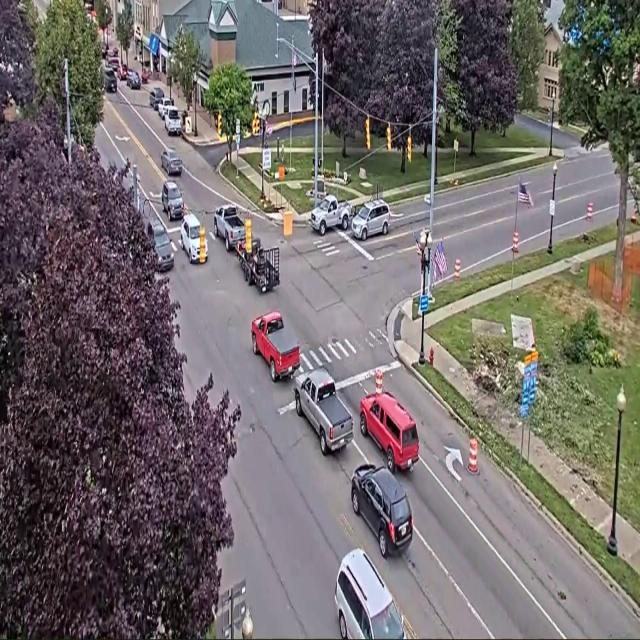car: (335, 549, 405, 639), (351, 464, 413, 557), (360, 392, 418, 472), (351, 200, 390, 240), (147, 218, 173, 271), (180, 214, 201, 263), (161, 181, 183, 220), (161, 149, 182, 175), (157, 96, 173, 119), (149, 88, 164, 110), (104, 68, 117, 92), (127, 70, 141, 89), (107, 57, 119, 72), (117, 64, 128, 80)
traffic signal: (252, 112, 259, 135), (217, 112, 223, 137), (366, 117, 370, 150), (386, 125, 391, 151), (407, 134, 411, 162)
truck: (294, 369, 353, 455), (252, 312, 299, 382), (236, 238, 279, 292), (310, 195, 351, 235), (214, 206, 245, 251), (164, 106, 181, 135)
